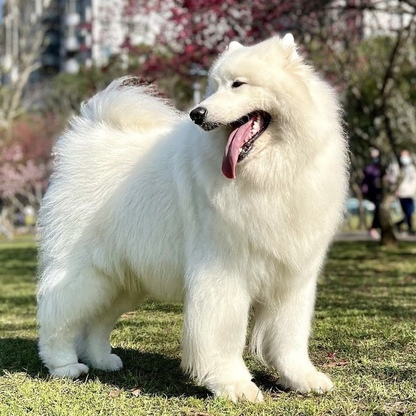samoyed: (31, 28, 357, 408)
